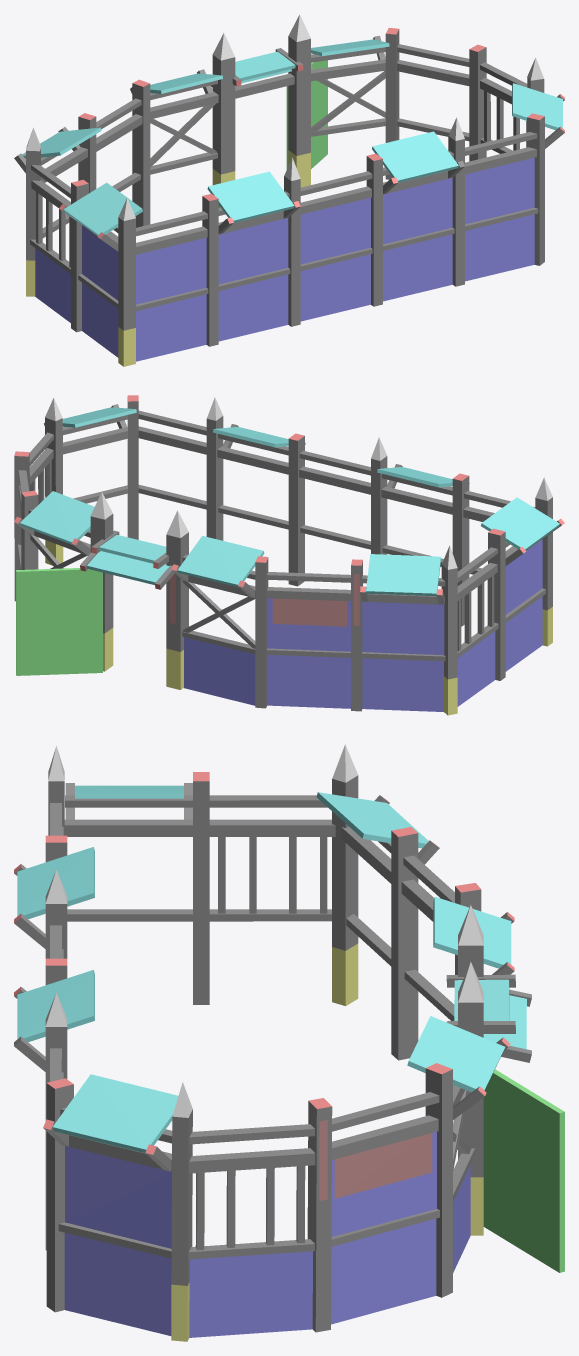
The model's file is L2fortress_02_s__fort02_jail.gltf.
The picture shows the model from 3 angles, top to bottom: view 1: azimuth 30°, elevation 25°; view 2: azimuth 150°, elevation 25°; view 3: azimuth 270°, elevation 25°; orthographic projection. The views are drawn at different scales.
Parts seen in each view (by area): view 1: fort02_jail; view 2: fort02_jail; view 3: fort02_jail.
Boxes of the visible parts, left/top/right/bottom form: fort02_jail: left=14, top=14, right=564, bottom=366; fort02_jail: left=14, top=395, right=564, bottom=715; fort02_jail: left=14, top=744, right=564, bottom=1341.
Size of the model in its own units: 5.03 by 1.71 by 3.18.
